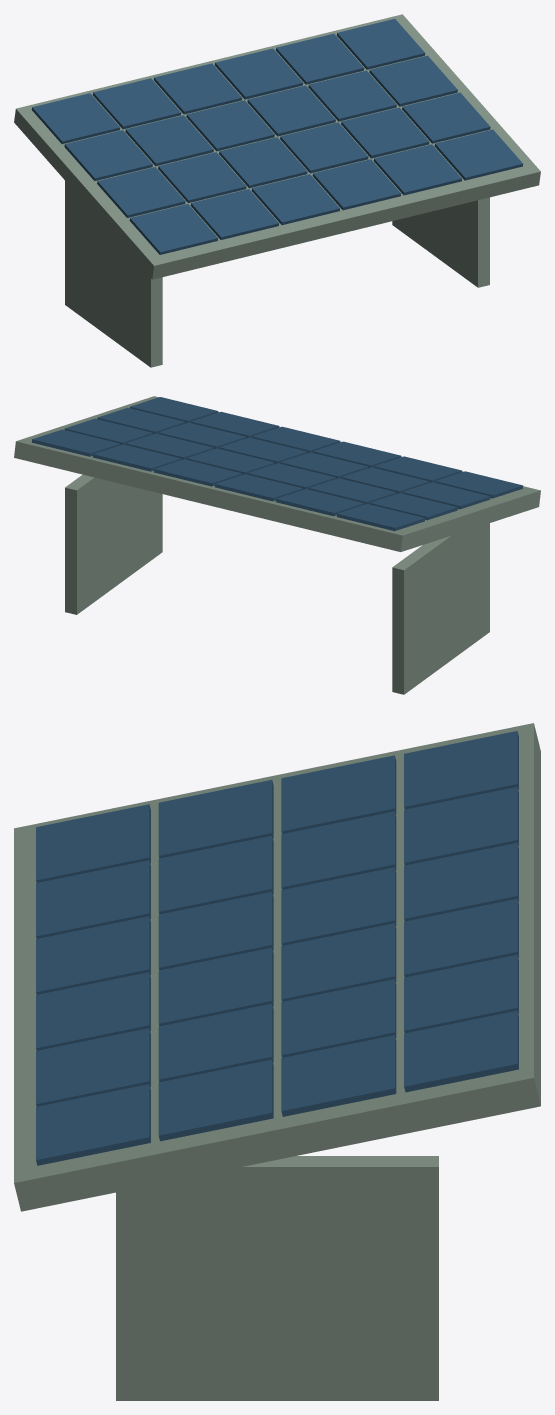
The model's file is solar_panel.glb.
The picture shows the model from 3 angles, top to bottom: view 1: azimuth 30°, elevation 25°; view 2: azimuth 150°, elevation 25°; view 3: azimuth 270°, elevation 25°; orthographic projection. The views are drawn at different scales.
Parts seen in each view (by area): view 1: Solar frame, Panel leg, Panel leg.001, Solar cell.010, Solar cell.021, Solar cell.002, Solar cell.005, Solar cell.006, Solar cell.013, Solar cell.018, Solar cell.003, Solar cell.012 (+15 smaller); view 2: Panel leg, Solar frame, Panel leg.001, Solar cell.003, Solar cell.015, Solar cell.023, Solar cell.007, Solar cell.011, Solar cell.019, Solar cell.001, Solar cell, Solar cell.002 (+15 smaller); view 3: Panel leg.001, Solar frame, Solar cell.022, Solar cell.021, Solar cell.020, Solar cell.023, Solar cell.014, Solar cell.010, Solar cell.013, Solar cell.002, Solar cell.009, Solar cell.018 (+14 smaller).
Part boxes in pixels (x1,y1,x2,y2): Solar frame: (14, 14, 540, 279); Panel leg: (65, 181, 162, 367); Panel leg.001: (392, 197, 489, 287); Solar cell.010: (186, 100, 274, 151); Solar cell.021: (402, 92, 490, 143); Solar cell.002: (64, 130, 152, 181); Solar cell.005: (158, 152, 246, 203); Solar cell.006: (125, 115, 213, 166); Solar cell.013: (280, 122, 368, 173); Solar cell.018: (308, 70, 396, 121); Solar cell.003: (31, 93, 120, 144); Solar cell.012: (312, 159, 401, 210); Panel leg: (392, 523, 489, 694); Solar frame: (14, 396, 540, 551); Panel leg.001: (65, 474, 162, 614); Solar cell.003: (336, 504, 425, 531); Solar cell.015: (154, 459, 242, 486); Solar cell.023: (31, 429, 120, 456); Solar cell.007: (275, 489, 364, 516); Solar cell.011: (215, 474, 303, 501); Solar cell.019: (92, 444, 181, 471); Solar cell.001: (402, 482, 490, 509); Solar cell: (435, 471, 523, 498); Solar cell.002: (369, 493, 457, 520); Panel leg.001: (116, 1156, 438, 1400); Solar frame: (14, 723, 540, 1211); Solar cell.022: (281, 1035, 396, 1116); Solar cell.021: (158, 1059, 273, 1141); Solar cell.020: (36, 1084, 150, 1165); Solar cell.023: (404, 1010, 518, 1092); Solar cell.014: (281, 923, 396, 1001); Solar cell.010: (281, 867, 396, 945); Solar cell.013: (158, 947, 273, 1026); Solar cell.002: (281, 755, 396, 833); Solar cell.009: (158, 891, 273, 970); Solar cell.018: (281, 979, 396, 1057).
Bounding box in the file's own units: 2.6 × 1.19 × 1.63.
